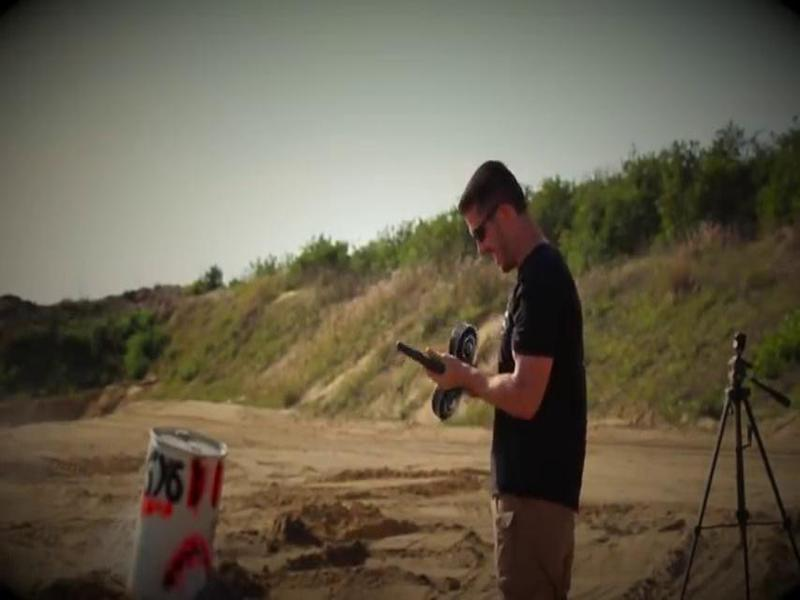Pistola: (382, 322, 467, 376)
